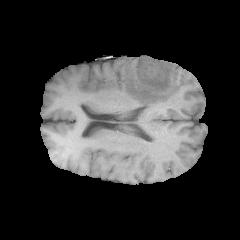glioma: (124, 56, 180, 107)
